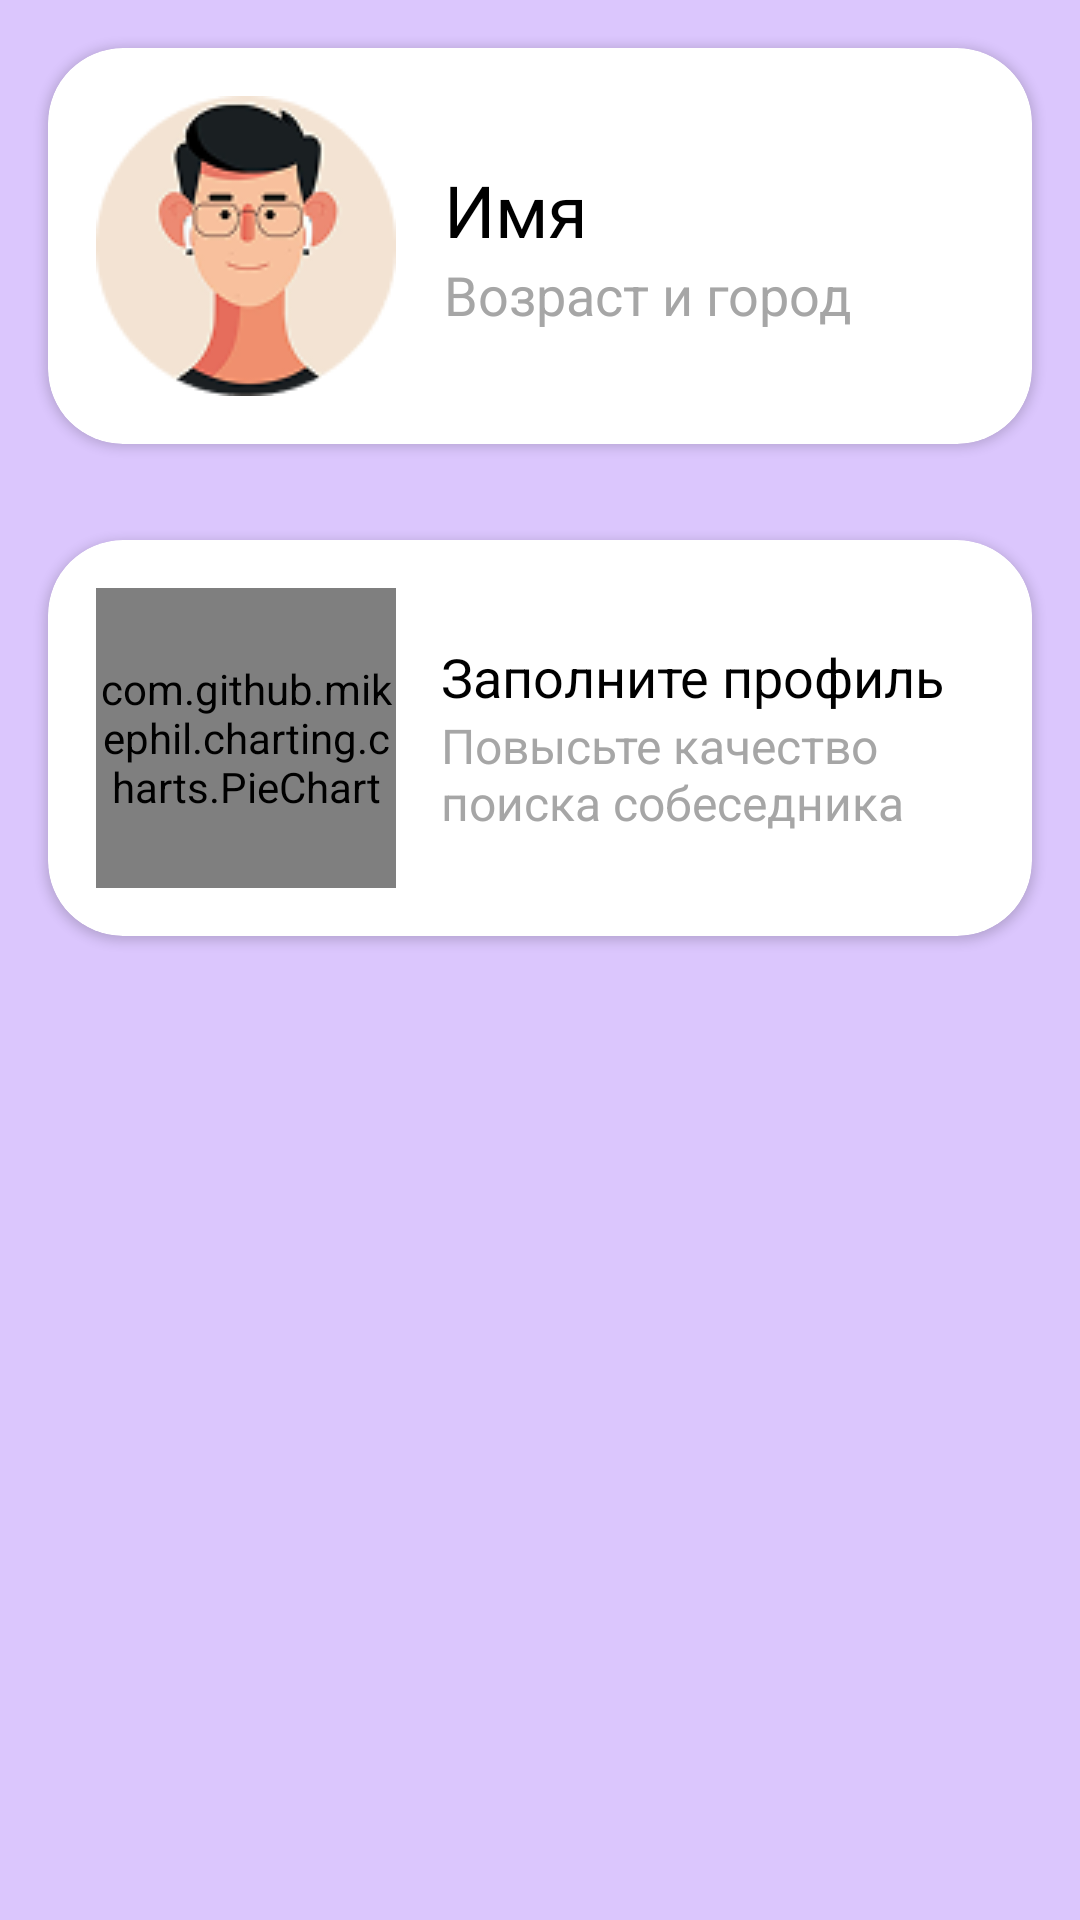

Point at icon controls on the screen. Image size 1080*1920, points as (x=x, y=y).
profile: (x=246, y=246)
